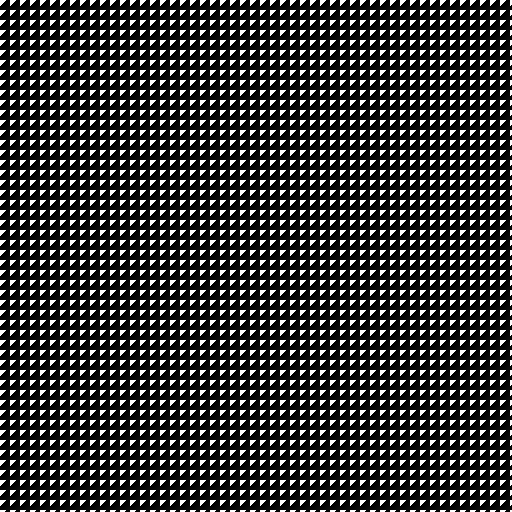3d_projection: (167, 157, 354, 344)
